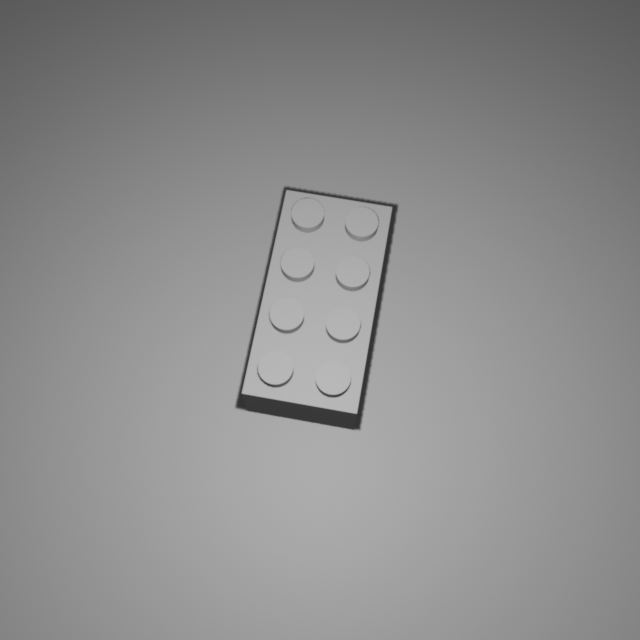lego_2x4: (241, 185, 393, 430)
